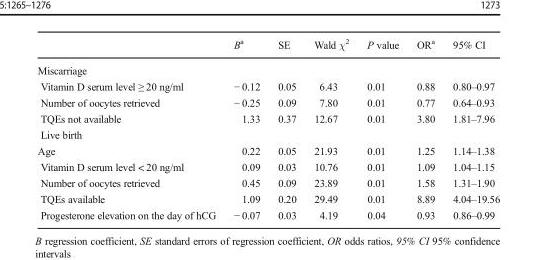table: (36, 36, 499, 221)
table column: (36, 36, 224, 221), (443, 36, 499, 221), (304, 36, 357, 221), (357, 36, 407, 221), (224, 36, 268, 221), (268, 36, 304, 221), (407, 36, 443, 221)
table column header: (36, 36, 499, 57)
table projected row header: (36, 57, 499, 77), (36, 126, 499, 142)
table row: (36, 36, 499, 57), (36, 57, 499, 77), (36, 93, 499, 110), (36, 77, 499, 93), (36, 110, 499, 126), (36, 126, 499, 142), (36, 142, 499, 158), (36, 158, 499, 174), (36, 174, 499, 190), (36, 205, 499, 221), (36, 190, 499, 205)
